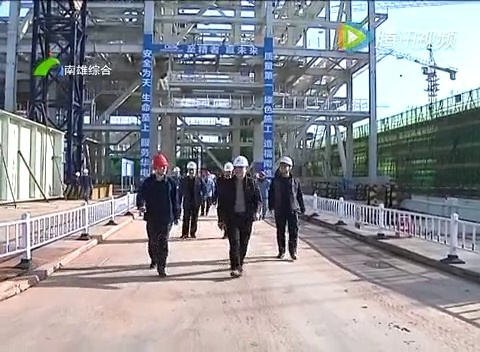red: (152, 153, 169, 174)
white: (233, 154, 249, 178), (277, 155, 293, 176), (222, 161, 234, 177), (186, 161, 197, 175)
